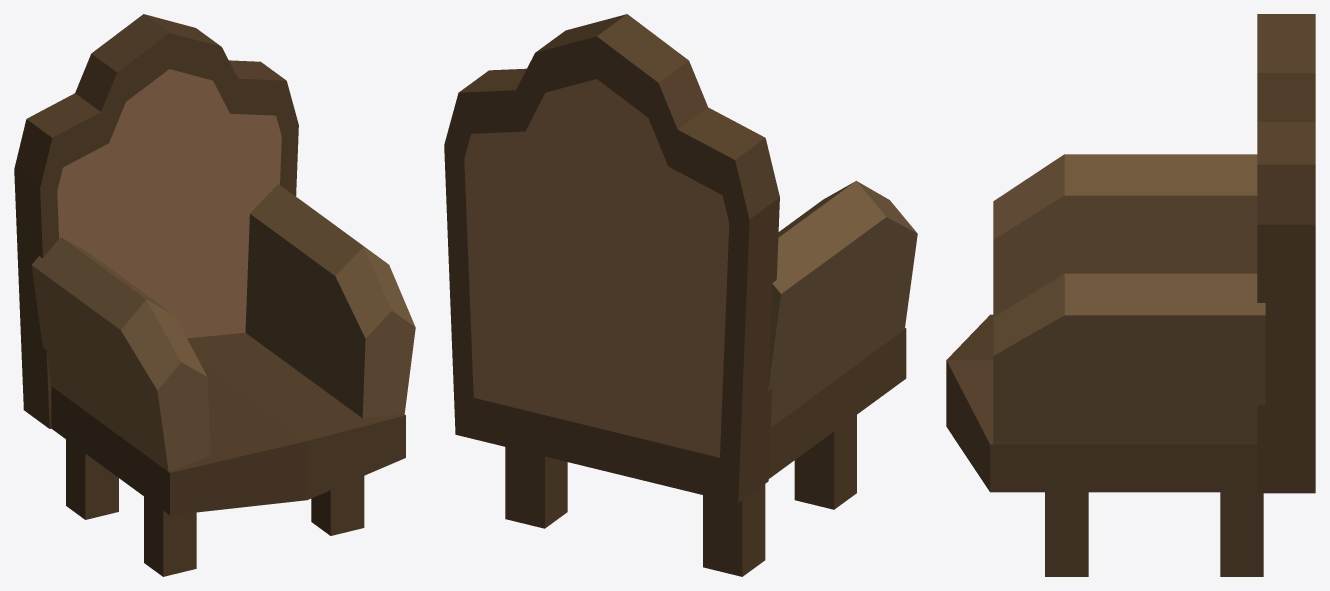
Rendered from Chair_4_Brown.fbx.
3 views of the same model, side by side, from view 1: azimuth 30°, elevation 25°; view 2: azimuth 150°, elevation 25°; view 3: azimuth 270°, elevation 25° (orthographic). The views are drawn at different scales.
Visible parts, largest first — view 1: Chair_4_Brown_Part_1, Chair_4_Brown_Part_3, Chair_4_Brown_Part_2; view 2: Chair_4_Brown_Part_2, Chair_4_Brown_Part_1, Chair_4_Brown_Part_3; view 3: Chair_4_Brown_Part_3, Chair_4_Brown_Part_1.
Part boxes in pixels (box(x1,y1,x2,y2)): Chair_4_Brown_Part_1: box(14, 14, 405, 576); Chair_4_Brown_Part_3: box(31, 184, 415, 471); Chair_4_Brown_Part_2: box(57, 69, 281, 338); Chair_4_Brown_Part_2: box(464, 79, 729, 457); Chair_4_Brown_Part_1: box(444, 14, 906, 576); Chair_4_Brown_Part_3: box(768, 181, 917, 427); Chair_4_Brown_Part_3: box(993, 154, 1265, 444); Chair_4_Brown_Part_1: box(946, 14, 1315, 576).
Size of the model in its own units: 64.09 by 103 by 67.73.
